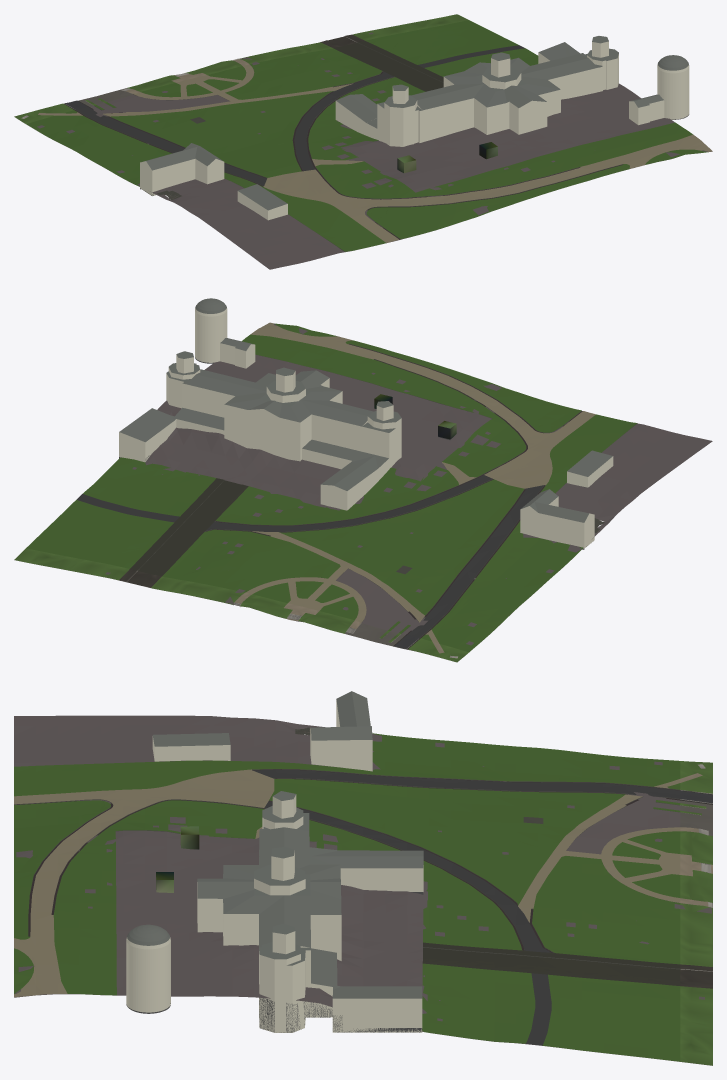
3 renders of one model, top to bottom at view 1: azimuth 30°, elevation 25°; view 2: azimuth 150°, elevation 25°; view 3: azimuth 270°, elevation 25°, orthographic. The views are drawn at different scales.
Parts seen in each view (by area): view 1: c_m01_p06; view 2: c_m01_p06; view 3: c_m01_p06.
Part boxes in pixels (x1,y1,x2,y2): c_m01_p06: (14, 14, 712, 269); c_m01_p06: (14, 298, 712, 662); c_m01_p06: (14, 691, 712, 1065).
Size of the model in its own units: 135 by 29.21 by 128.
